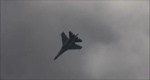maybay_muctieu: (53, 29, 82, 61)
